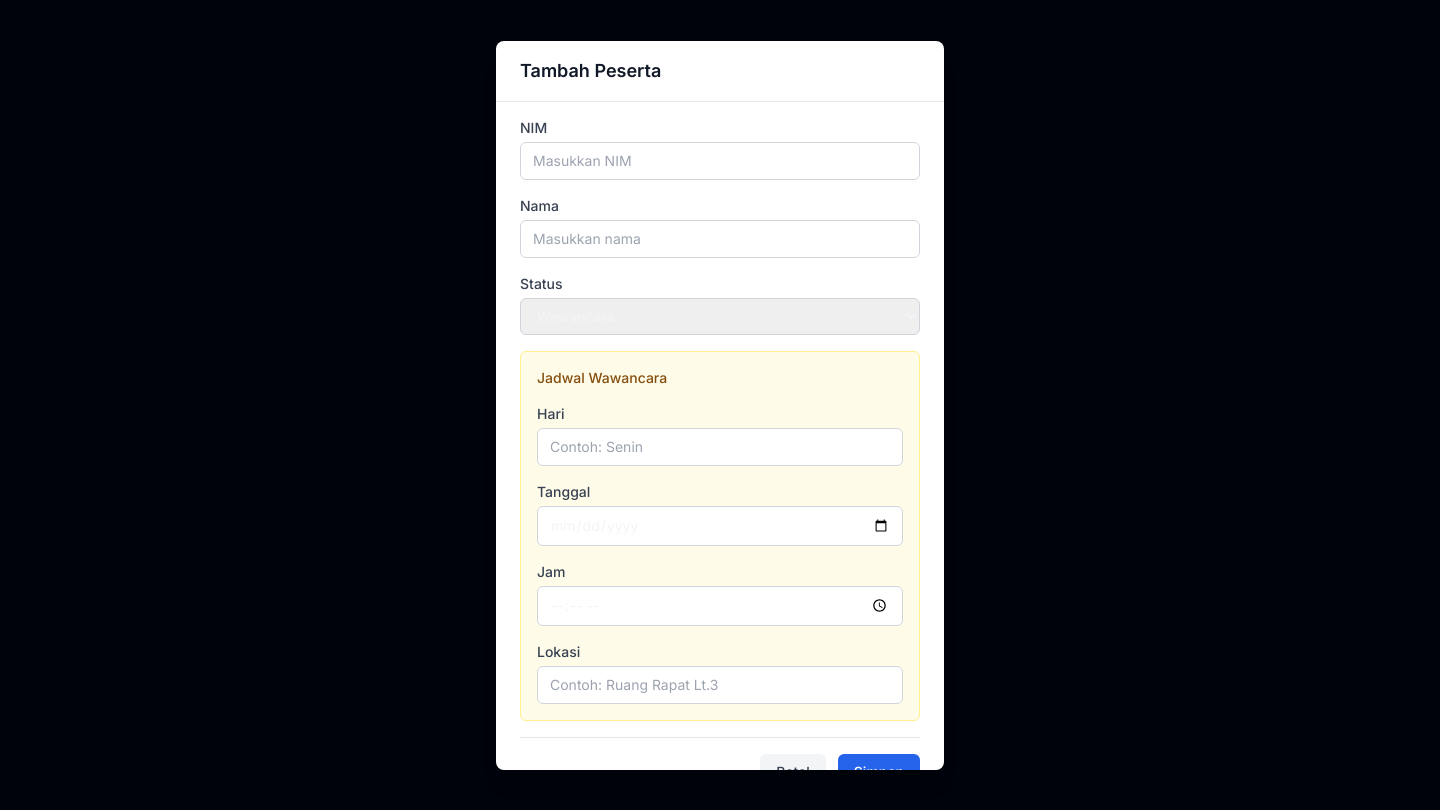
AddPesertaModal › shows bidang field when status is lulus
The width and height of the screenshot is (1440, 810).
Select "Lulus" in the dropdown labelled "Status" at point(720, 316), box [520, 298, 920, 334]
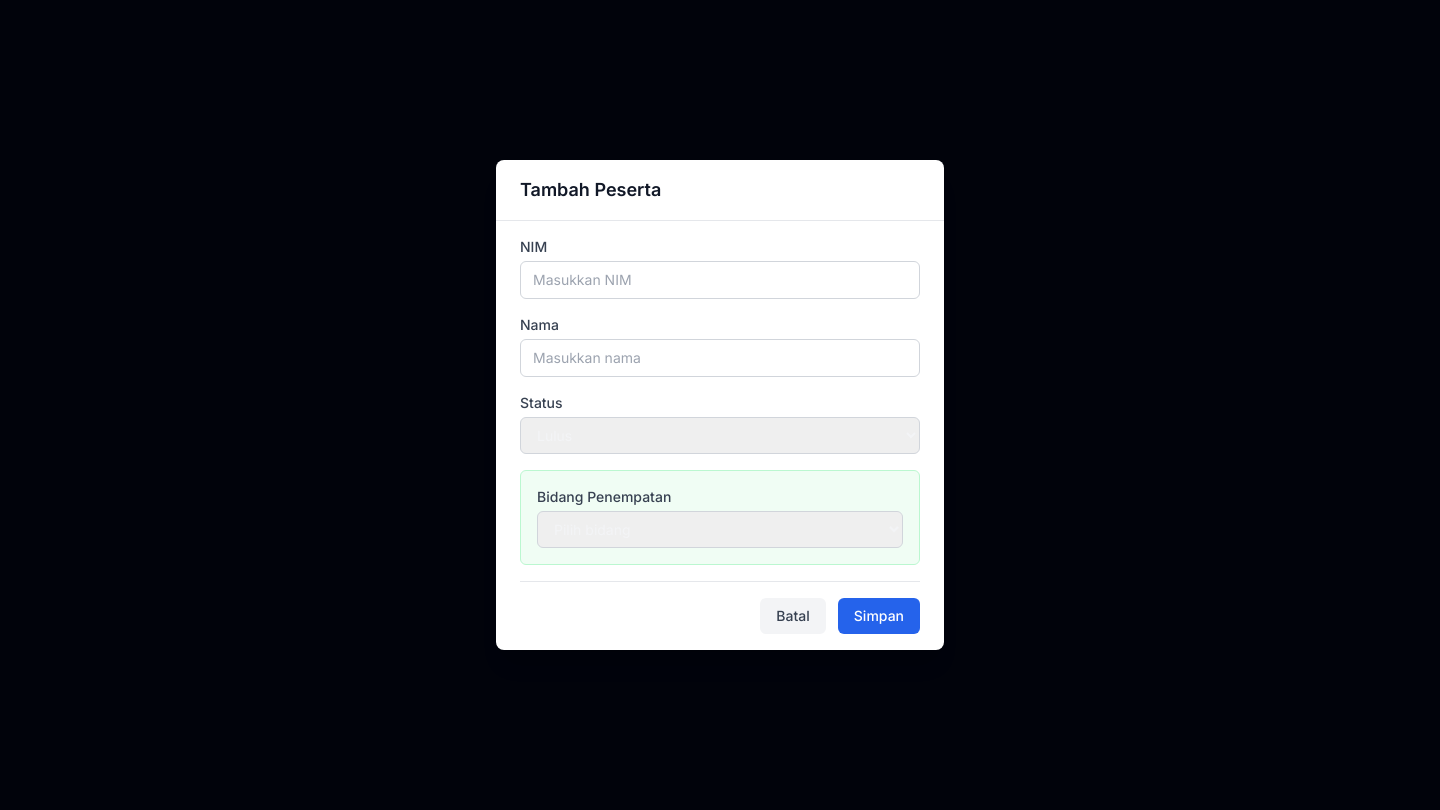
Expected: the dropdown labelled "Bidang Penempatan" is shown, [537, 511, 903, 548]
